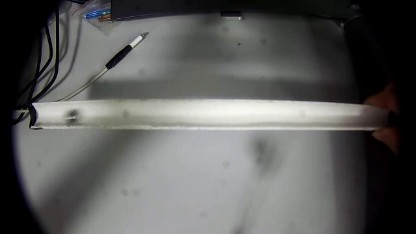gangzhu: (61, 107, 81, 124)
